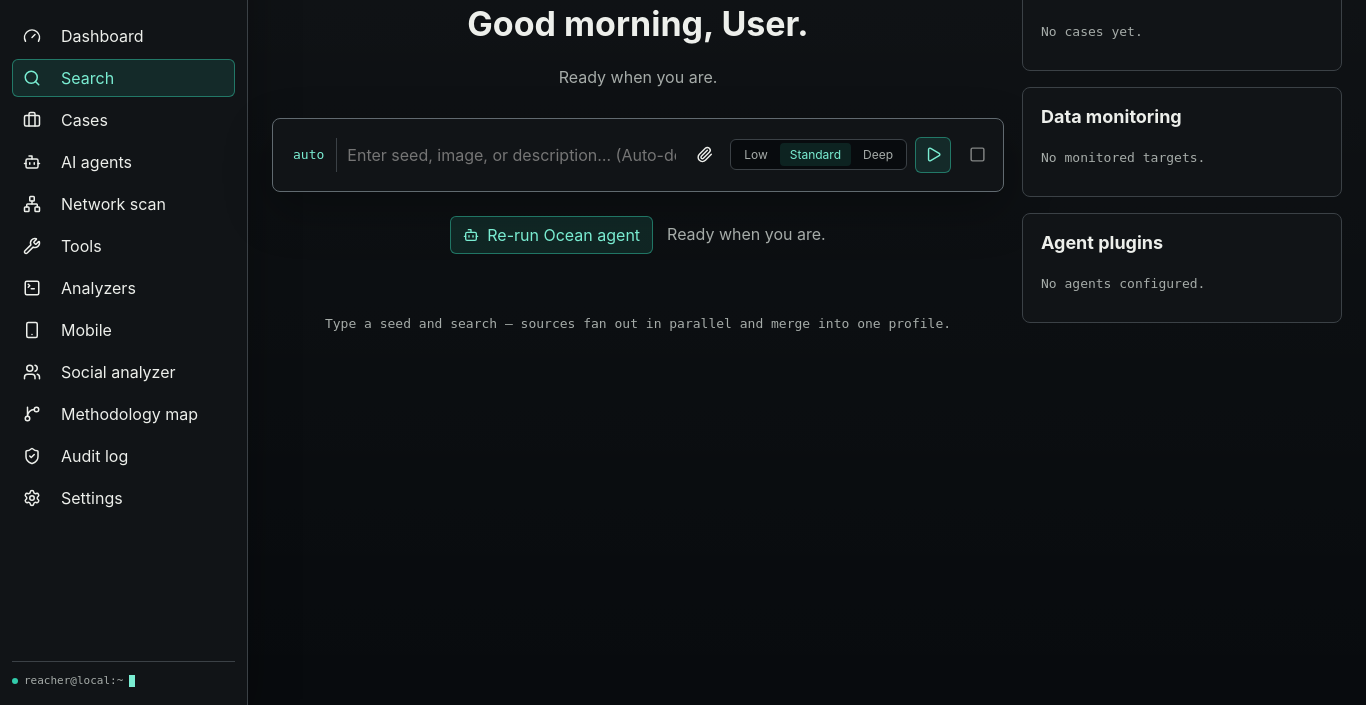
Test: search board pins to the first osint-agent run it sees and ignores a later run of the SAME agent, so a stale run cannot overwrite a finding the investigator mig
This screenshot has width=1366, height=705.
Type "example.com" into the field labelled "seed".
click(512, 155); type("example.com")  # box [345,134,678,176]
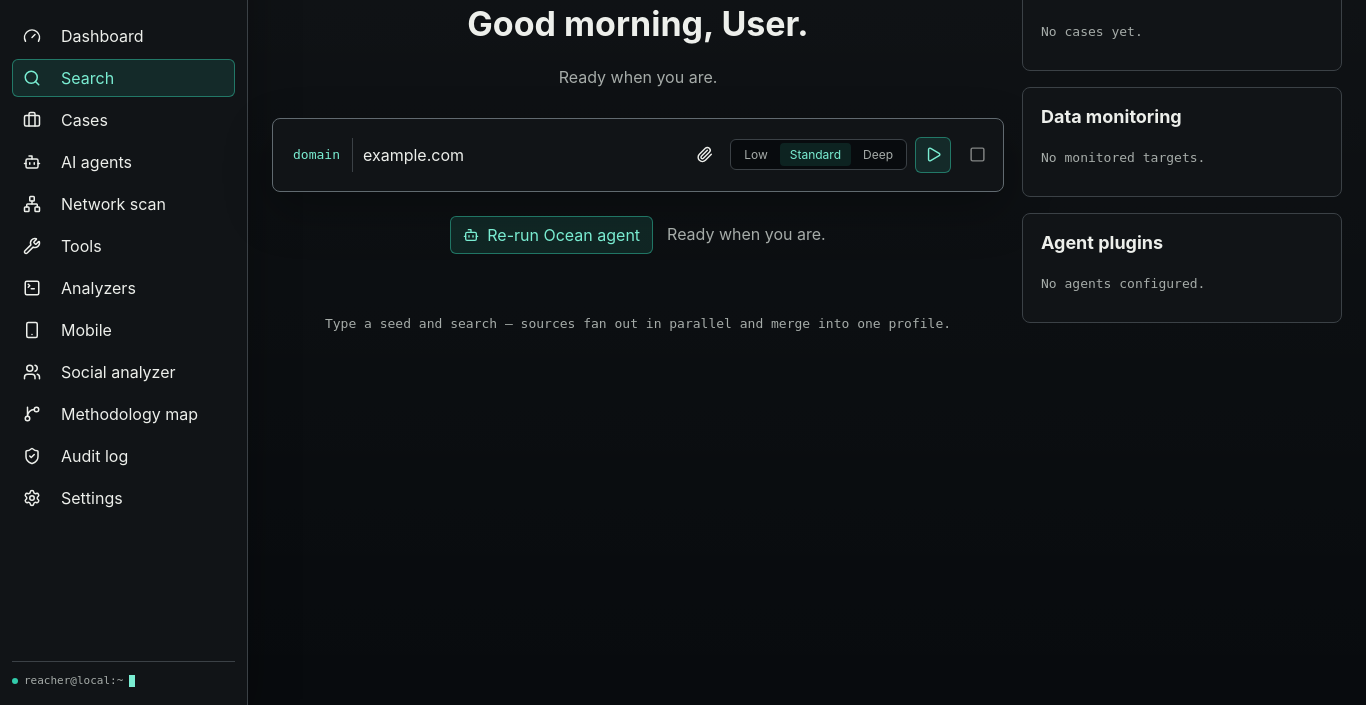
Click the button named "Search".
click(933, 155)  # box [915,137,951,173]
(page scrolled)
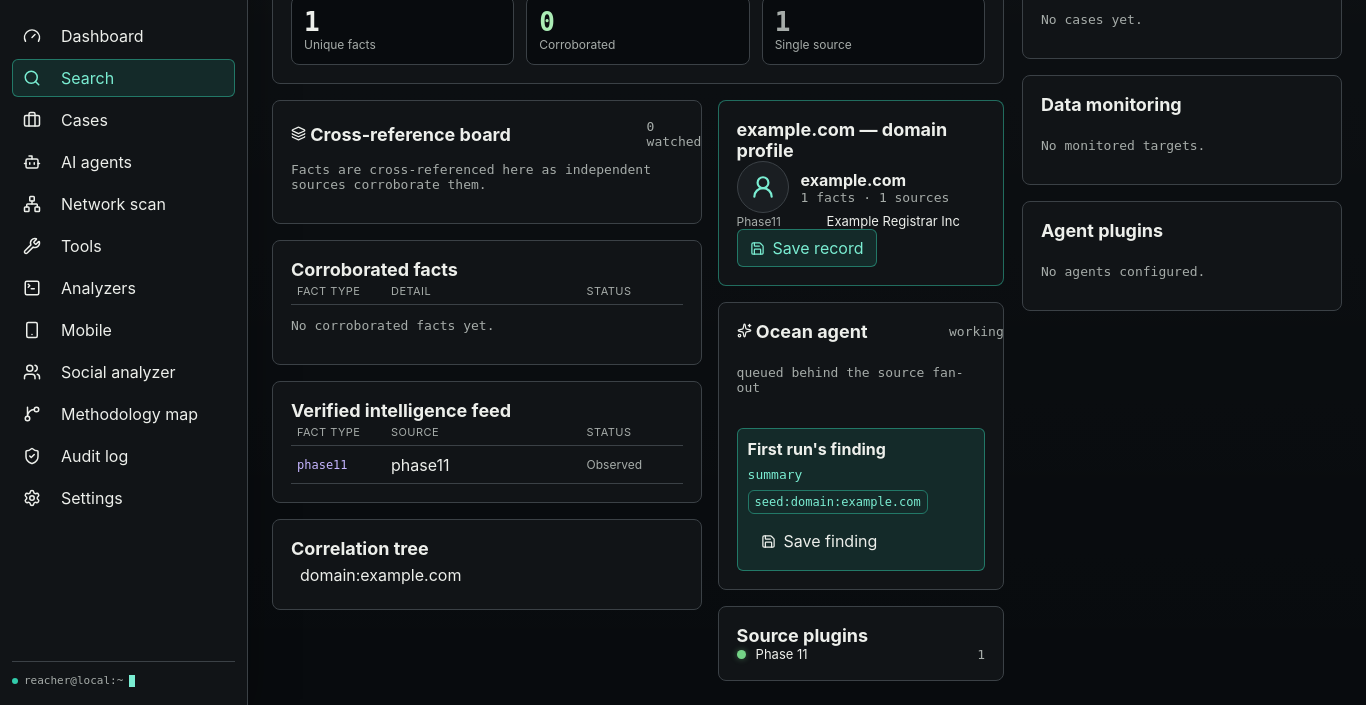
Expected: the heading "Ocean agent" is shown, [737,321,868,342]
Expected: the text "First run's finding" is shown, [748,439,886,459]
